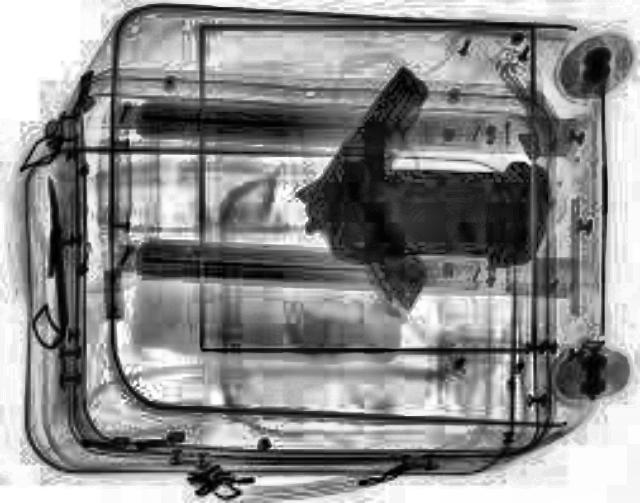Gun: (291, 63, 429, 319)
